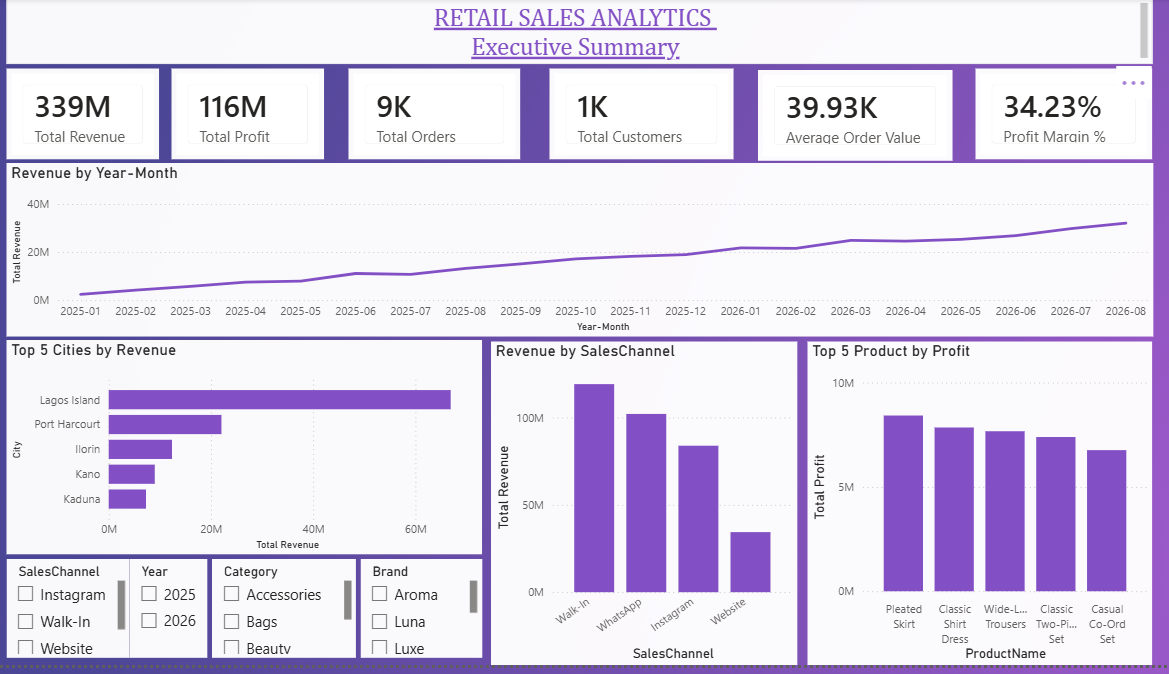

What the dashboard file says about the page in this screenshot:
{"tool":"powerbi","page":{"name":"Executive Summary","canvas":[1280,720],"ordinal":0},"visuals":[{"type":"cardVisual","fields":{"Data":["Orders.Total Revenue"]},"box":[17,75.6,164.4,98.3],"z":0},{"type":"cardVisual","fields":{"Data":["Orders.Total Profit"]},"box":[196.5,75.6,164.4,98.3],"z":1000},{"type":"cardVisual","fields":{"Data":["Orders.Total Orders"]},"box":[387.4,75.6,185.2,98.3],"z":2000},{"type":"cardVisual","fields":{"Data":["Orders.Average Order Value"]},"box":[829.6,77.5,209.8,98.3],"z":3000},{"type":"cardVisual","fields":{"Data":["Orders.Total Customers"]},"box":[604.7,75.6,198.4,98.3],"z":4000},{"type":"cardVisual","fields":{"Data":["Orders.Profit Margin %"]},"box":[1063.9,75.6,190.9,98.3],"z":5000},{"type":"textbox","box":[17.8,0,1237.1,71.2],"z":6000},{"type":"lineChart","title":"Revenue by Year-Month","fields":{"Y":["Orders.Total Revenue"],"Category":["DateTable.Year-Month"]},"box":[17,177.6,1237.8,187.1],"z":7000},{"type":"columnChart","title":"Revenue by SalesChannel","fields":{"Y":["Orders.Total Revenue"],"Category":["Orders.SalesChannel"]},"box":[540.5,370.4,330.7,349.6],"z":8000},{"type":"columnChart","title":"Top 5 Products by Profit","fields":{"Y":["Orders.Total Profit"],"Category":["Products.ProductName"]},"box":[882.5,370.4,372.3,349.6],"z":9000},{"type":"barChart","title":"Top 5 Cities by Revenue","fields":{"Category":["Orders.City"],"Y":["Orders.Total Revenue"]},"box":[17.8,369.2,513.3,231.5],"z":10000},{"type":"slicer","fields":{"Values":["DateTable.Year"]},"box":[150.6,605.6,84.2,106.9],"z":11000},{"type":"slicer","fields":{"Values":["Products.Category"]},"box":[239.6,605.6,155.4,106.9],"z":12000},{"type":"slicer","fields":{"Values":["Orders.SalesChannel"]},"box":[17.8,605.6,132.8,106.9],"z":13000},{"type":"slicer","fields":{"Values":["Products.Brand"]},"box":[399.9,605.6,131.2,106.9],"z":14000}]}

Visuals, with their boxes in screenshot pixels (x1, y1, x2, y2), scaled from the page's 1280x720 canvas onto the 1169x674 screenshot:
cardVisual - Orders.Total Revenue: 16, 71, 166, 163
cardVisual - Orders.Total Profit: 179, 71, 330, 163
cardVisual - Orders.Total Orders: 354, 71, 523, 163
cardVisual - Orders.Average Order Value: 758, 73, 949, 165
cardVisual - Orders.Total Customers: 552, 71, 733, 163
cardVisual - Orders.Profit Margin %: 972, 71, 1146, 163
textbox: 16, 0, 1146, 67
"Revenue by Year-Month" lineChart: 16, 166, 1146, 341
"Revenue by SalesChannel" columnChart: 494, 347, 796, 673
"Top 5 Products by Profit" columnChart: 806, 347, 1146, 673
"Top 5 Cities by Revenue" barChart: 16, 346, 485, 562
slicer - DateTable.Year: 138, 567, 214, 667
slicer - Products.Category: 219, 567, 361, 667
slicer - Orders.SalesChannel: 16, 567, 138, 667
slicer - Products.Brand: 365, 567, 485, 667
